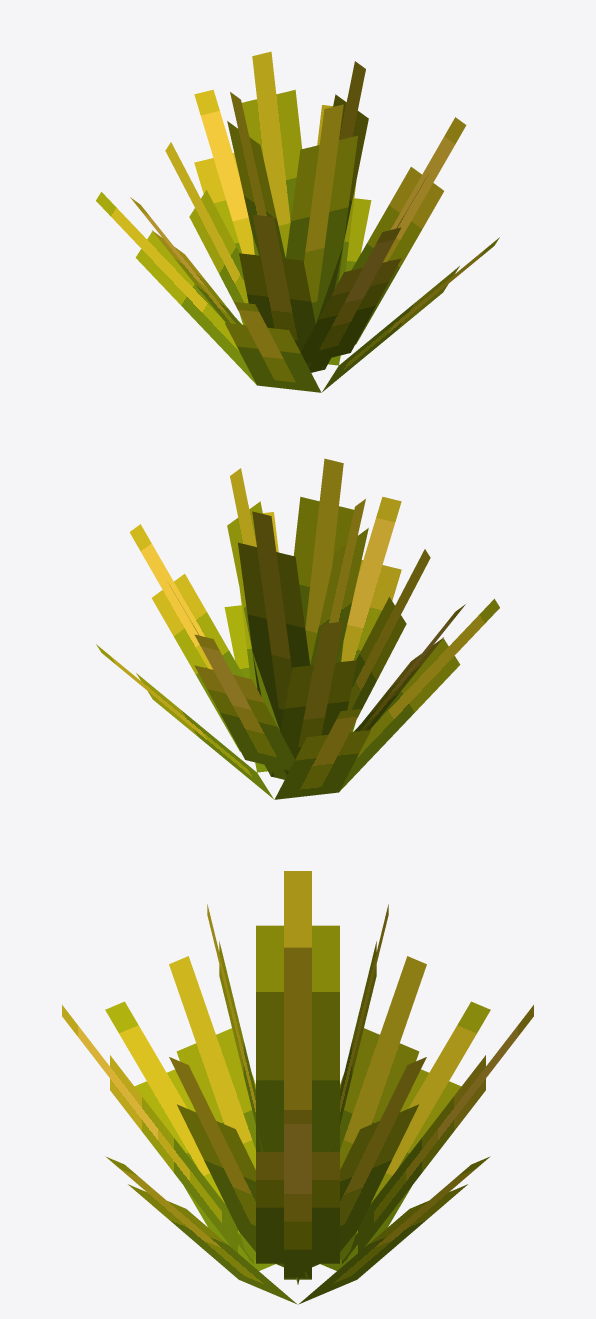
File: tequila.obj
The picture shows the model from 3 angles, top to bottom: view 1: azimuth 30°, elevation 25°; view 2: azimuth 150°, elevation 25°; view 3: azimuth 270°, elevation 25°; orthographic projection. The views are drawn at different scales.
Parts seen in each view (by area): view 1: bb_main_outline, bb_main; view 2: bb_main, bb_main_outline; view 3: bb_main, bb_main_outline.
Part boxes in pixels (x1,y1,x2,y2): bb_main_outline: [96, 51, 465, 391]; bb_main: [130, 52, 499, 392]; bb_main: [96, 458, 499, 799]; bb_main_outline: [131, 459, 465, 799]; bb_main: [62, 871, 533, 1304]; bb_main_outline: [62, 871, 531, 1303].
Size of the model in its own units: 1.27 by 0.9763 by 1.27.
